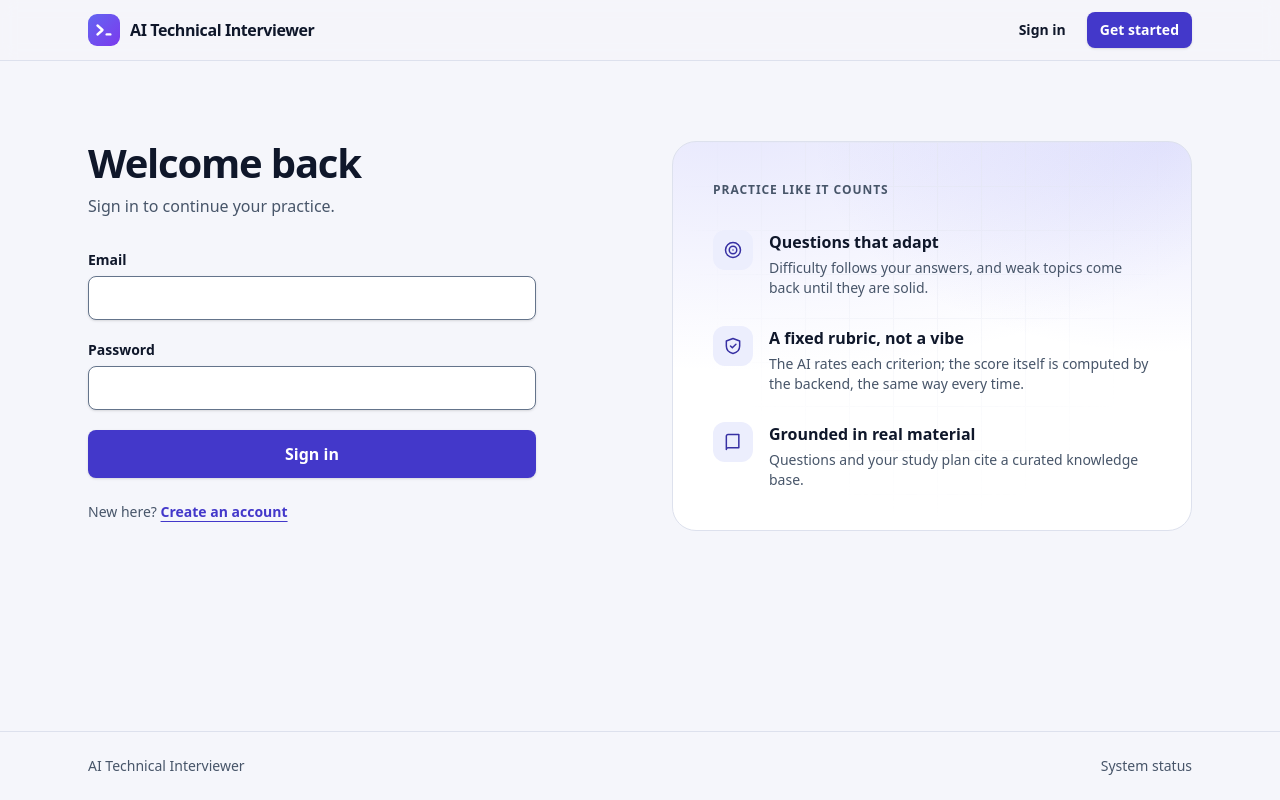
Test: LoginPage › signs in, sends the credentials once and lands on the dashboard
This screenshot has width=1280, height=800.
Type " ada@example.com " into the field labelled "Email".
click(312, 298); type(" ada@example.com ")  # box 88,276 -> 536,320
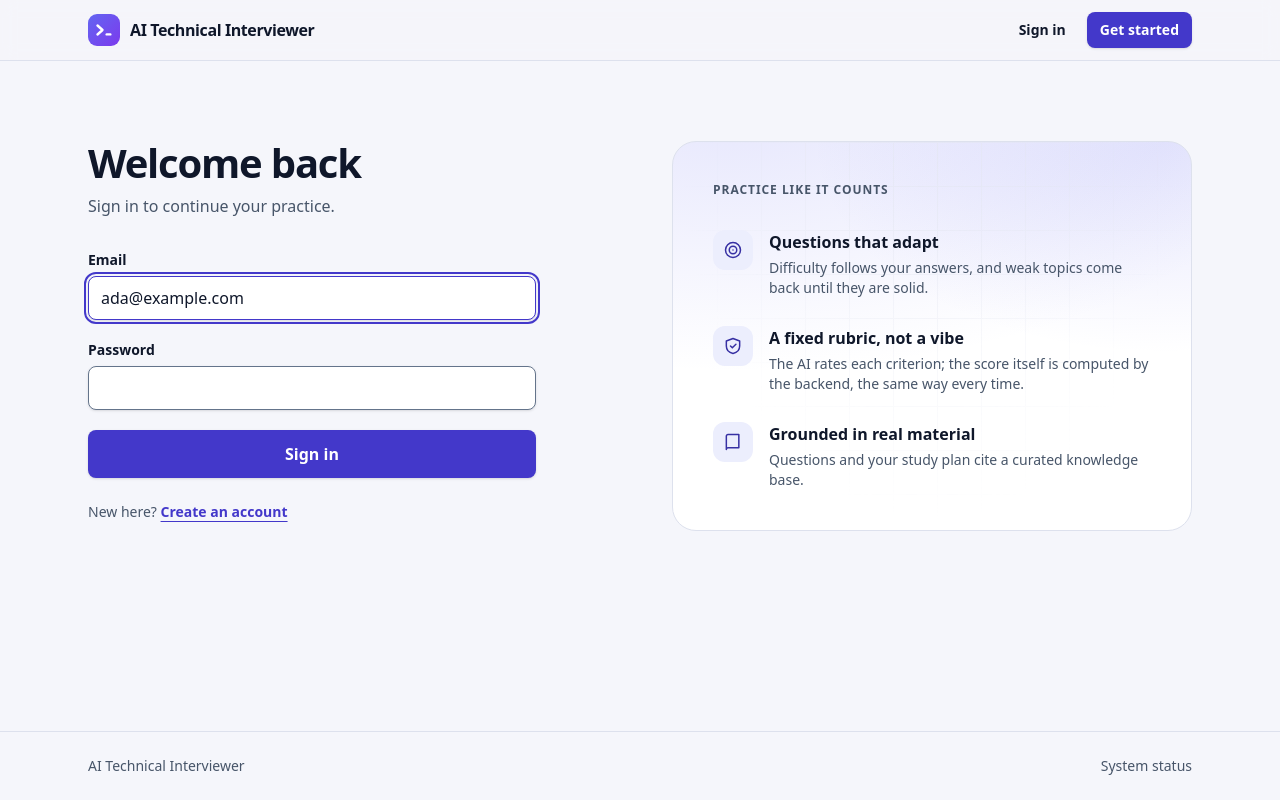
Type "correct-horse-battery" into the password field labelled "Password".
click(312, 388); type("correct-horse-battery")  # box 88,366 -> 536,410
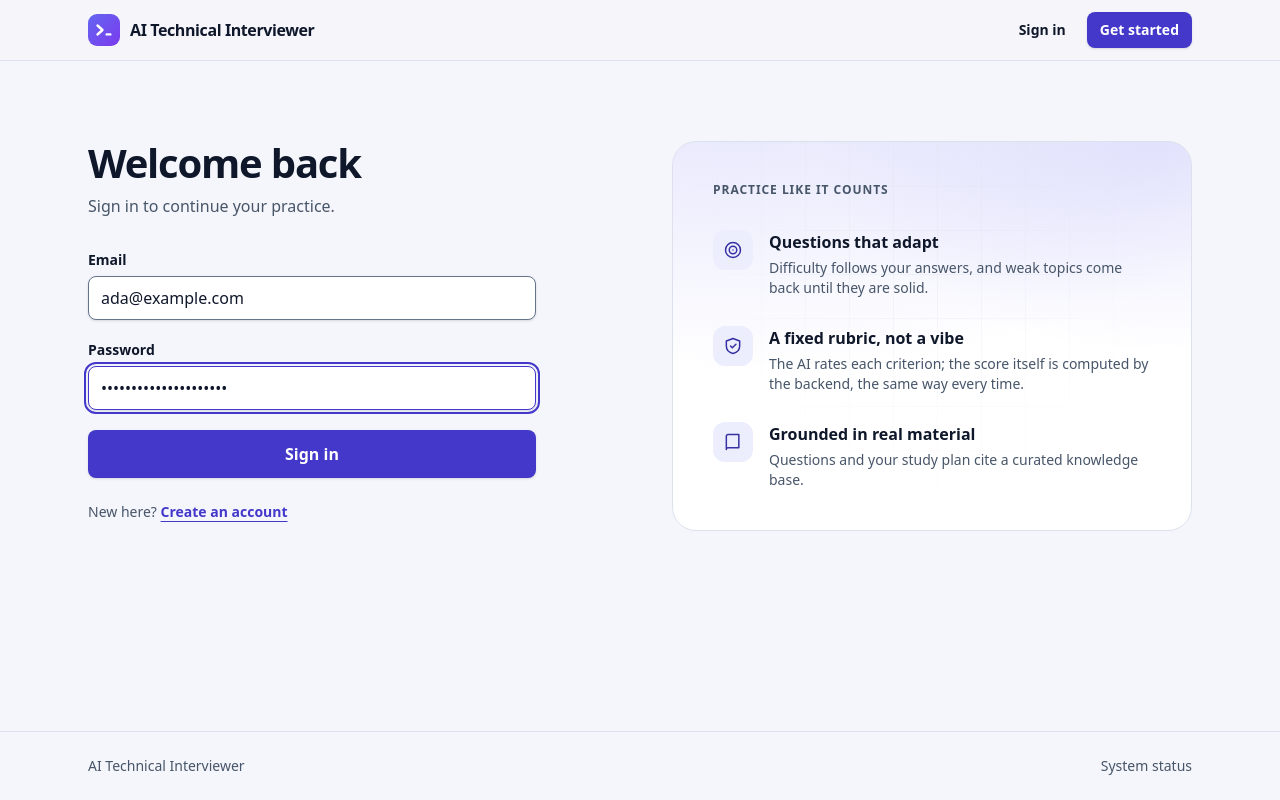
Click the button "Sign in".
click(312, 454)  # box 88,430 -> 536,478
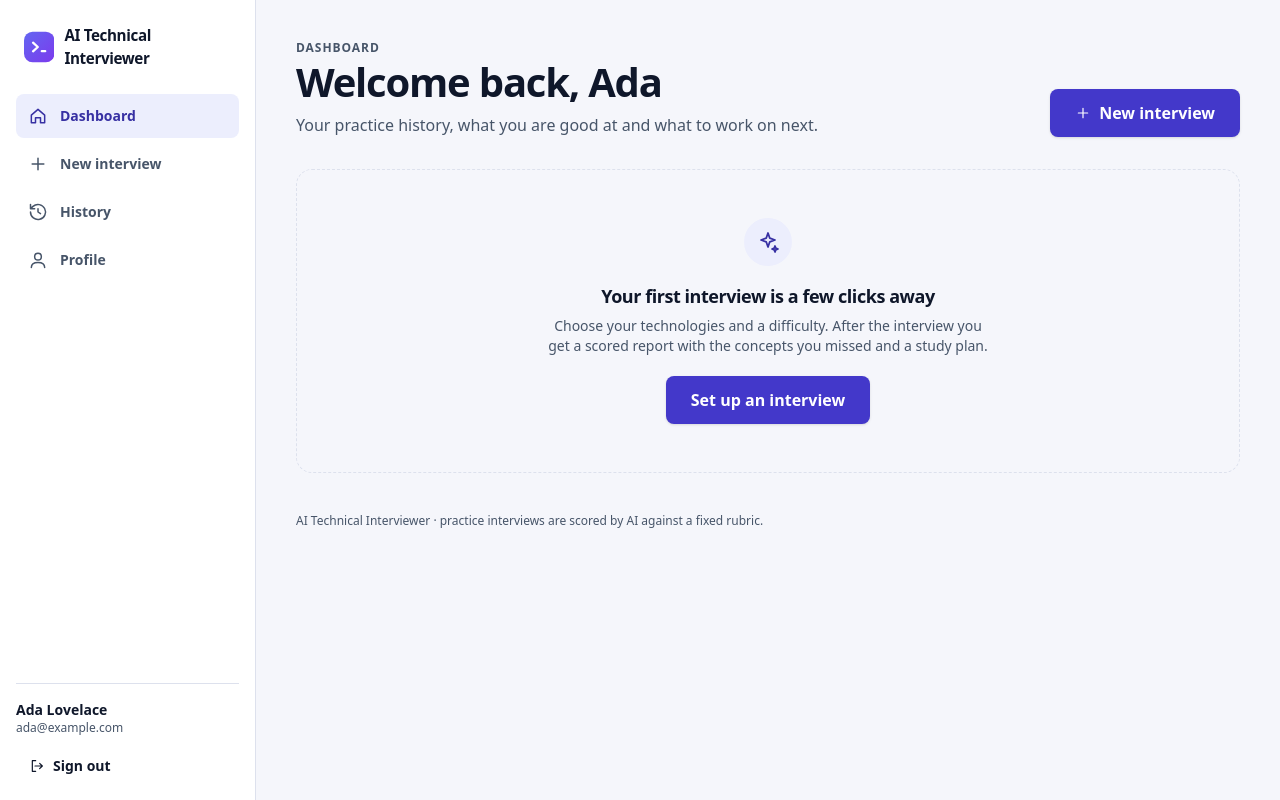
Result: the heading "Welcome back, Ada" is shown at 296,54 -> 662,109
